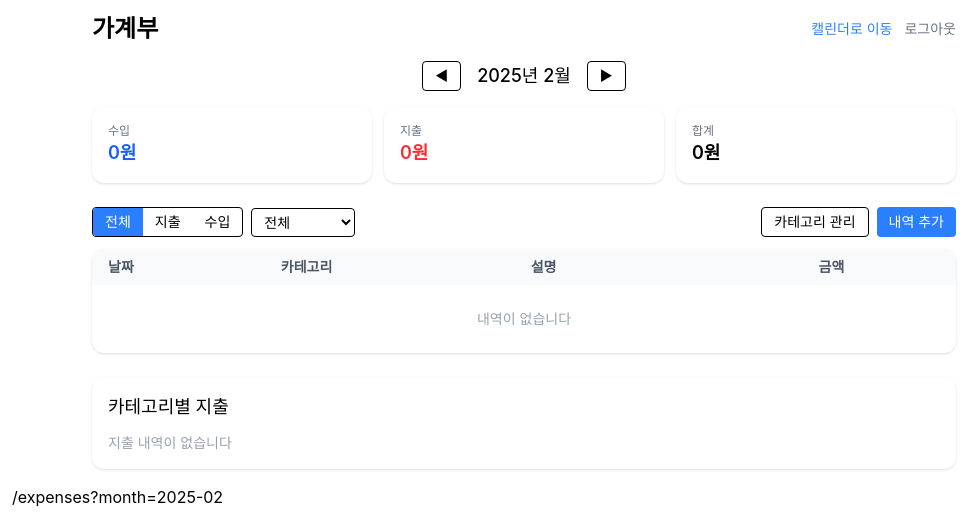
Test case: ExpensesPage › ?month 초기 월 › moveMonth_withMonthParam_movesAndClearsParam
Click the button named "다음 달": (606, 76) x1=587 y1=61 x2=626 y2=91
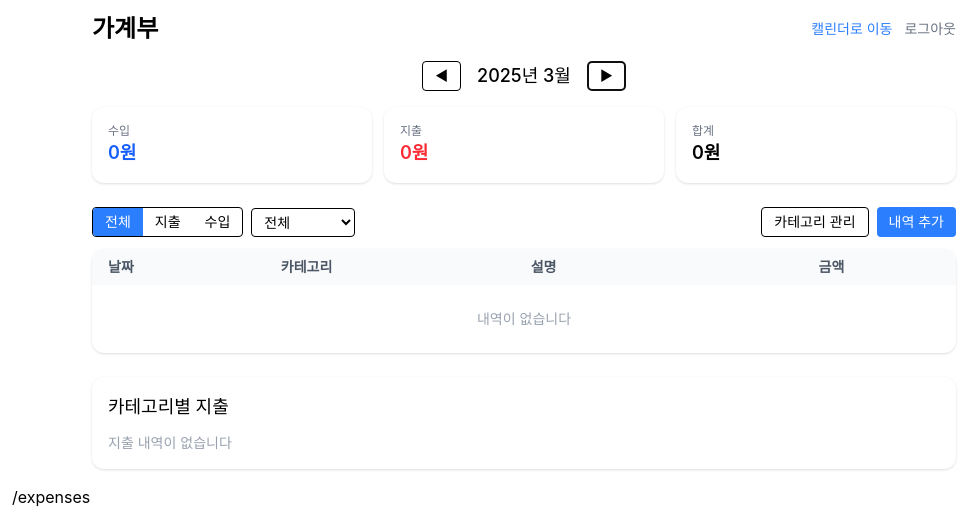
Expected: the text with test id "location" reads "/expenses", x1=12 y1=487 x2=90 y2=507
Now the text "2025년 3월" is shown, box x1=477 y1=62 x2=571 y2=90
